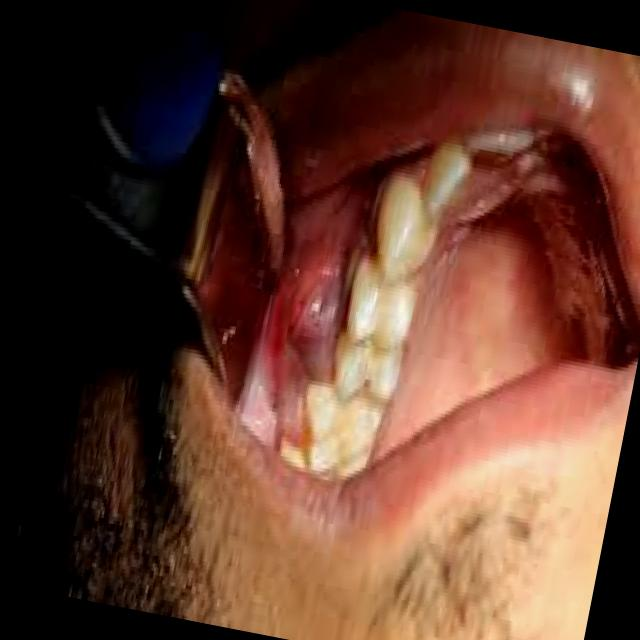abscess: (248, 200, 371, 393)
